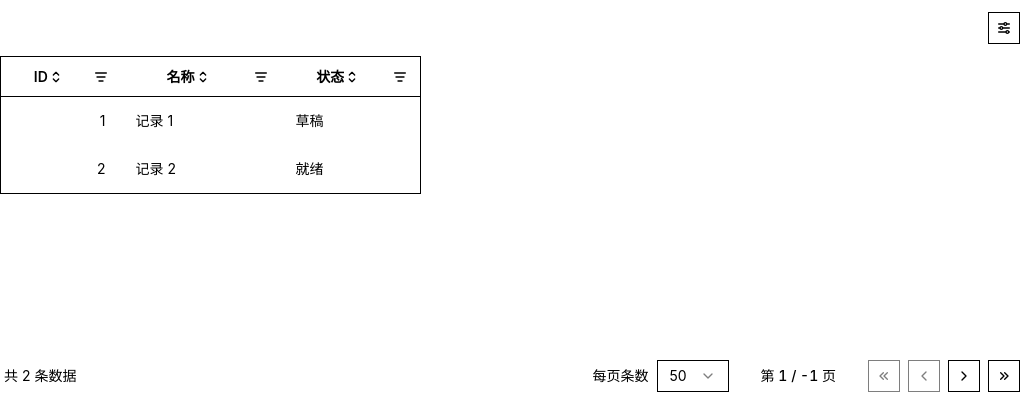
DataTable cell selection › starts a text draft from a full-width printable key without committing
Click the cell "记录 1": (154, 120) [120,97,280,145]
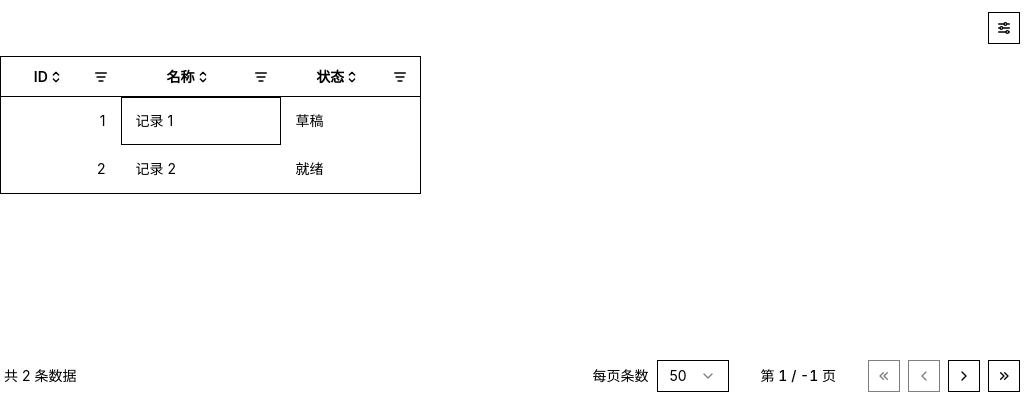
Press Ａ in the cell "记录 1", box [120,97,280,145]
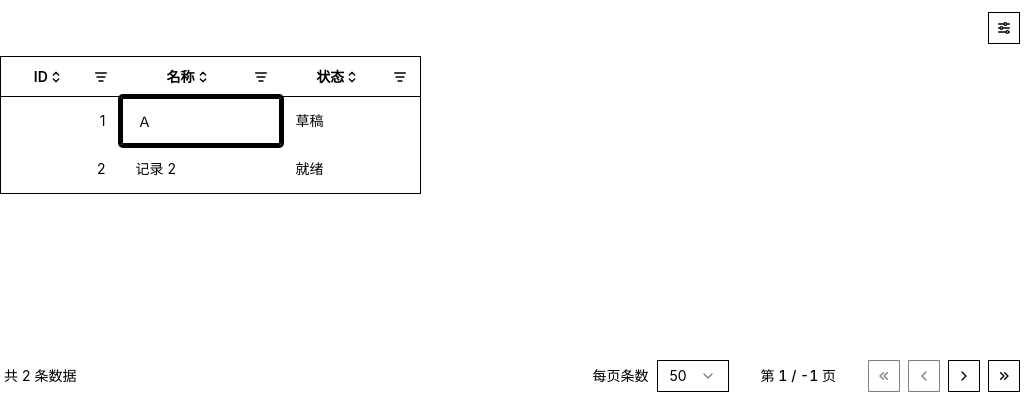
Now the field named "编辑名称" holds "Ａ", box [120,97,280,145]
